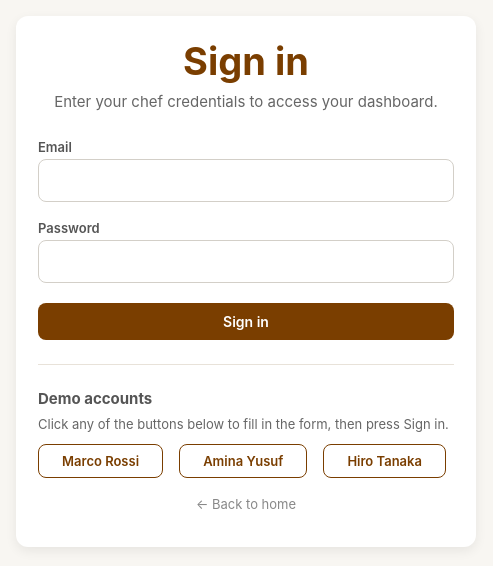
Scenario: clicking a demo button fills the email field
Click the button "Marco Rossi" at (101, 461), box top-left (38, 444), bottom-right (163, 478)
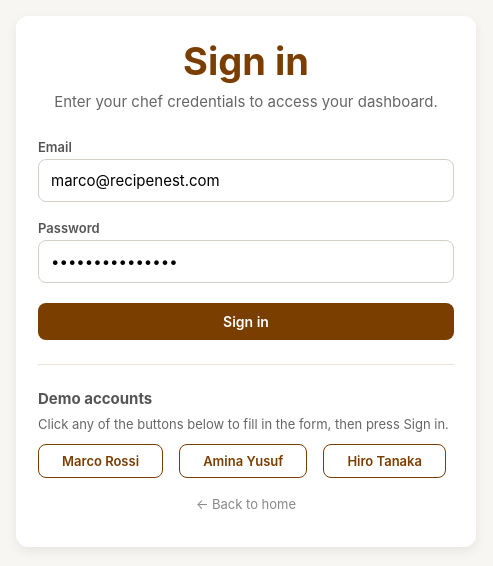
expect the field labelled "Email" holds "marco@recipenest.com": met, box top-left (38, 159), bottom-right (454, 202)
